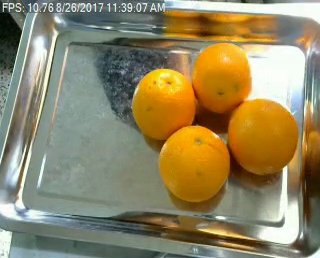Orange: (157, 124, 230, 202), (228, 100, 299, 175), (131, 67, 197, 141), (193, 43, 253, 113)
